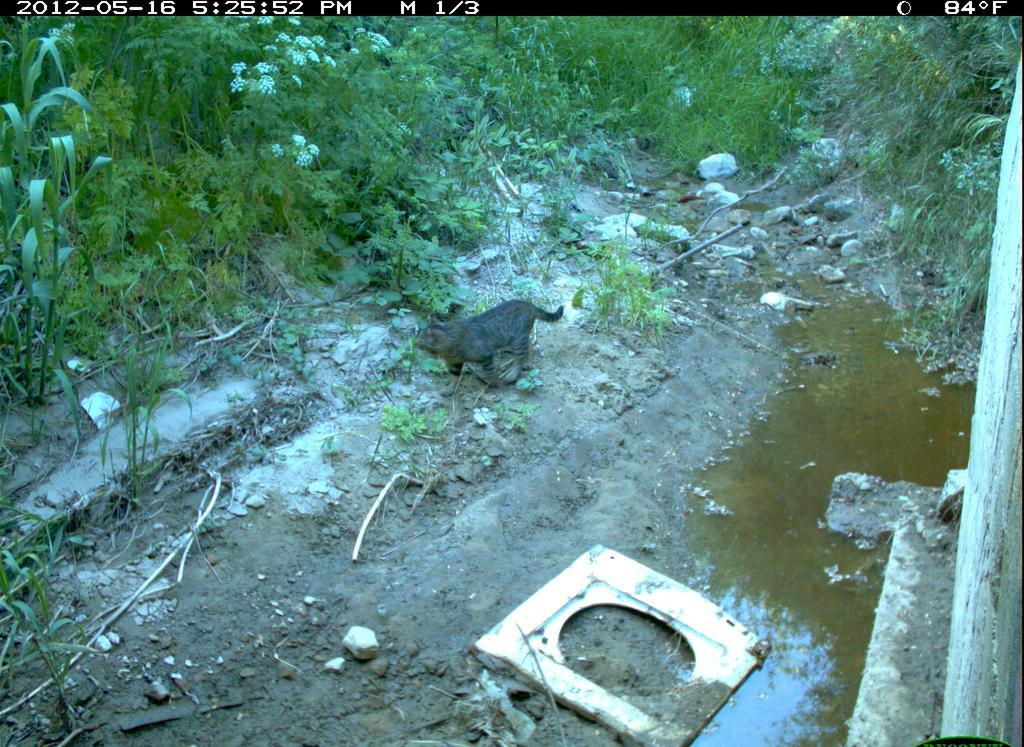cat: (411, 289, 571, 397)
